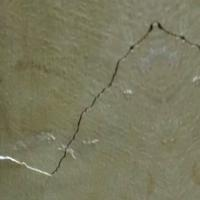crack: (0, 18, 199, 182)
